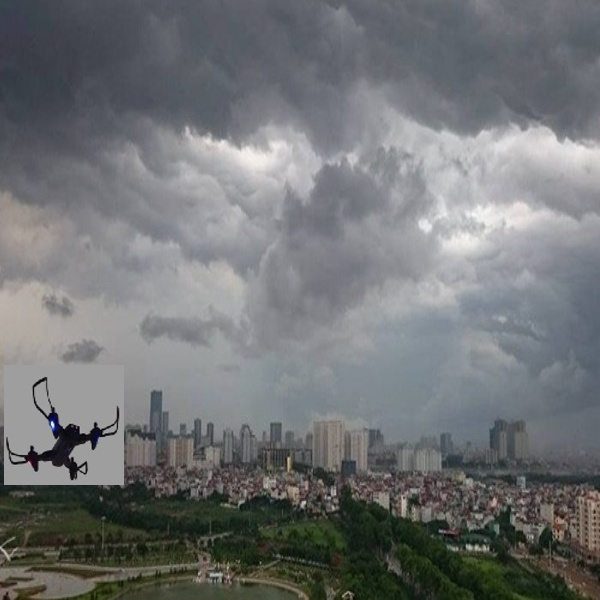drone: (6, 373, 121, 487)
